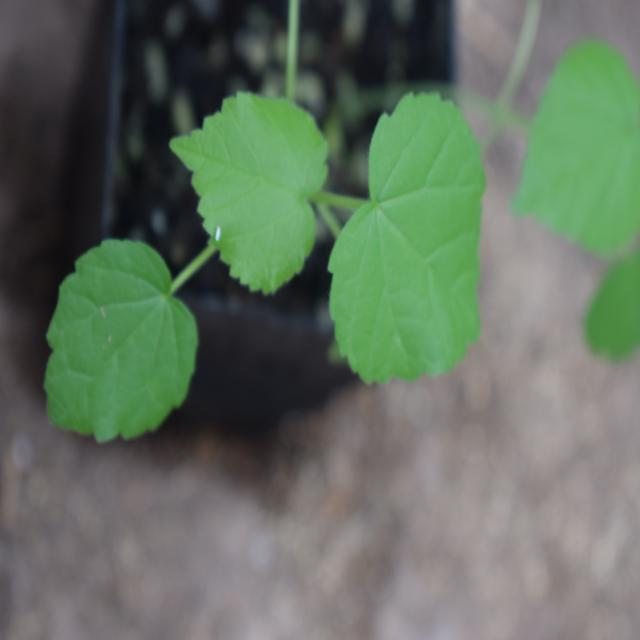abutilon theophrasti: (38, 54, 488, 468)
